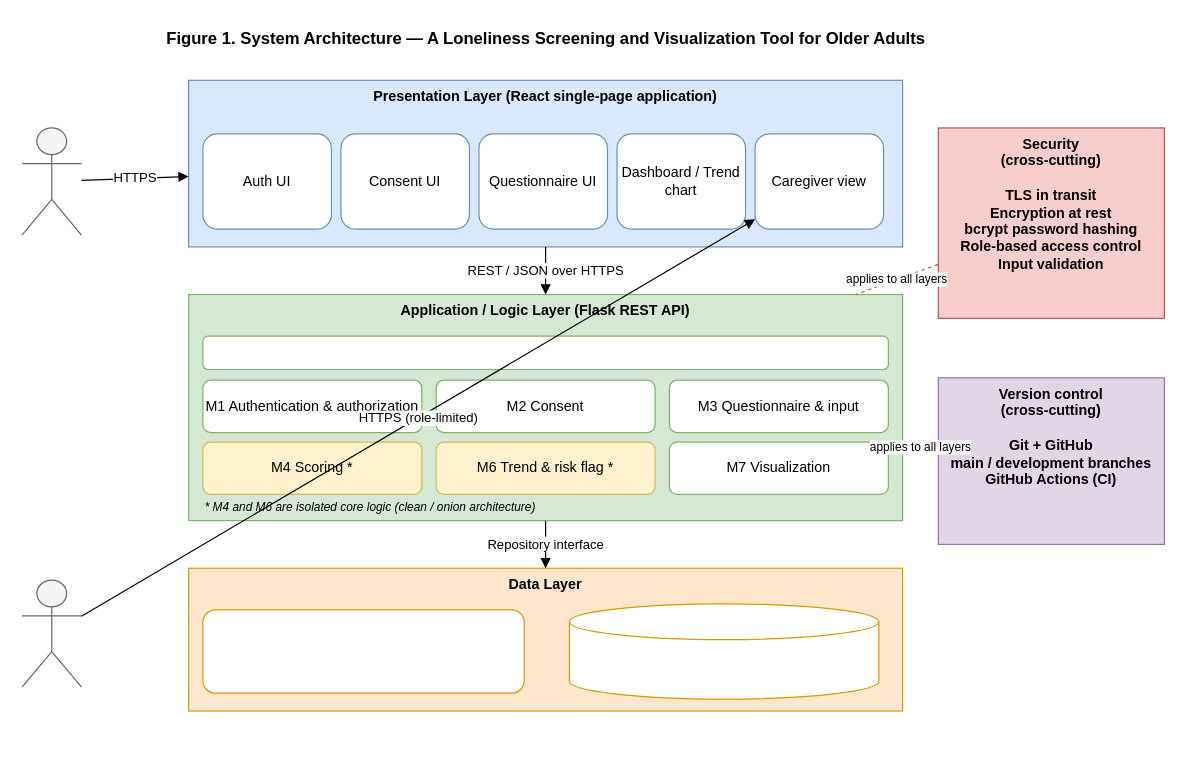
Some shapes in this 1185 by 784 pixel diagram are drawn without their labels. The shapes that lost their labels are listed below. From the top down, each one's centre as x and y in pixels, then its label:
At point (51, 181): "Older adult".
At point (545, 352): "Controller / Routing".
At point (51, 633): "Caregiver / health worker".
At point (363, 651): "M5 Data access (Repository pattern) encryption at rest, data minimization".
At point (723, 651): "SQLite database Tables: users, consents, responses, flags".
